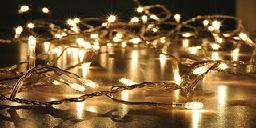LED: (8, 2, 253, 112)
